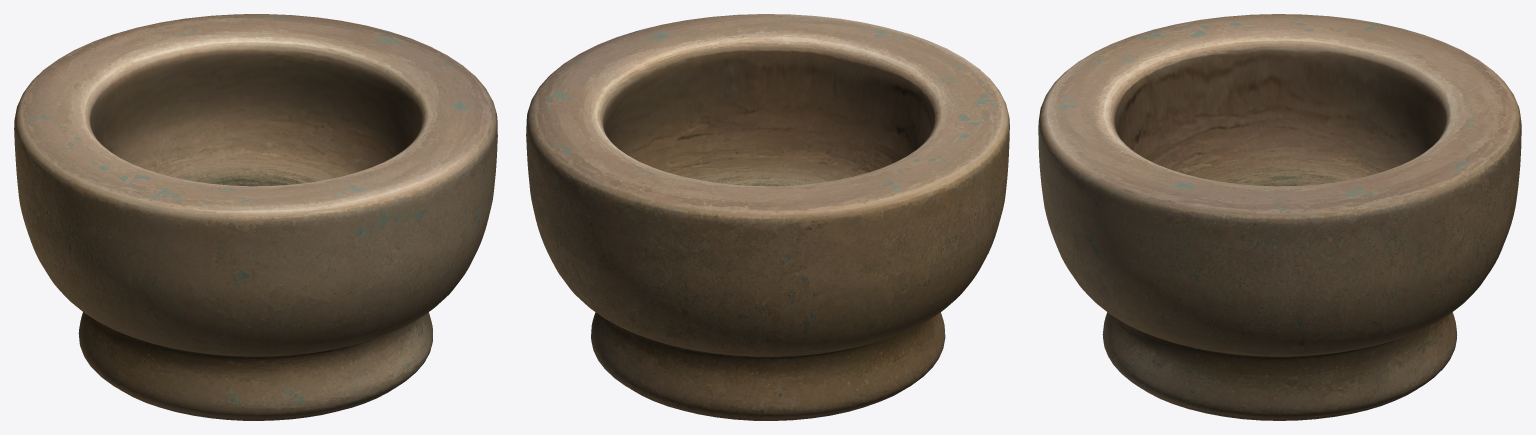
Rendered from Prop_Mortar.fbx.
The picture shows the model from 3 angles, left to right: view 1: azimuth 30°, elevation 25°; view 2: azimuth 150°, elevation 25°; view 3: azimuth 270°, elevation 25°; orthographic projection.
Visible parts, largest first — view 1: texture_mapping; view 2: texture_mapping; view 3: texture_mapping.
Boxes of the visible parts, left/top/right/bottom form: texture_mapping: left=14, top=14, right=497, bottom=420; texture_mapping: left=526, top=14, right=1009, bottom=420; texture_mapping: left=1038, top=14, right=1521, bottom=420.
Size of the model in its own units: 1 by 1 by 0.5589.
Materials: 1 (1 with a texture image).
